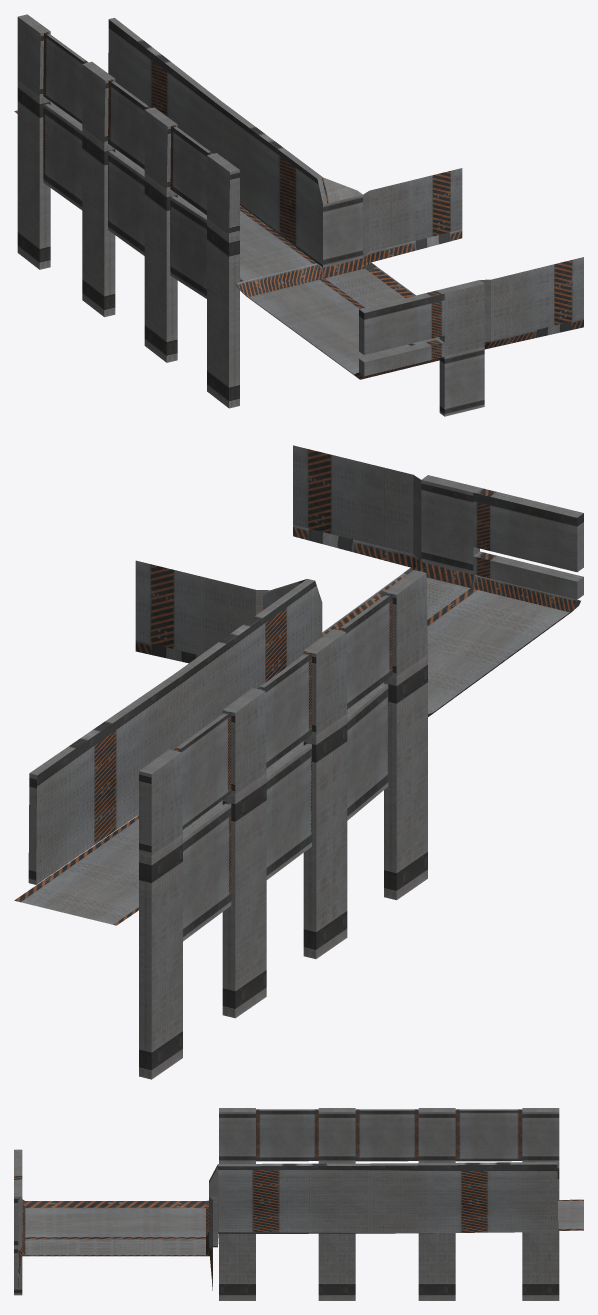
Rendered from Sci Fi Room Game2.fbx.
3 views of the same model, one above another, from view 1: azimuth 30°, elevation 25°; view 2: azimuth 150°, elevation 25°; view 3: azimuth 270°, elevation 25° (orthographic). The views are drawn at different scales.
Visible parts, largest first — view 1: Plane, Plane.004; view 2: Plane, Plane.004; view 3: Plane, Plane.004.
Boxes of the visible parts, x1=… form: Plane: x1=14, y1=18, x2=583, y2=416; Plane.004: x1=17, y1=14, x2=239, y2=408; Plane: x1=14, y1=445, x2=583, y2=925; Plane.004: x1=139, y1=570, x2=427, y2=1079; Plane: x1=14, y1=1149, x2=583, y2=1295; Plane.004: x1=219, y1=1108, x2=559, y2=1300.
Bounding box in the file's own units: 942 × 925 × 2527.
